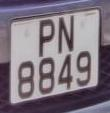4: (56, 51, 76, 95)
8: (14, 54, 38, 104), (36, 55, 58, 99)
9: (75, 46, 94, 91)
N: (56, 13, 78, 57)
P: (35, 15, 58, 62)
